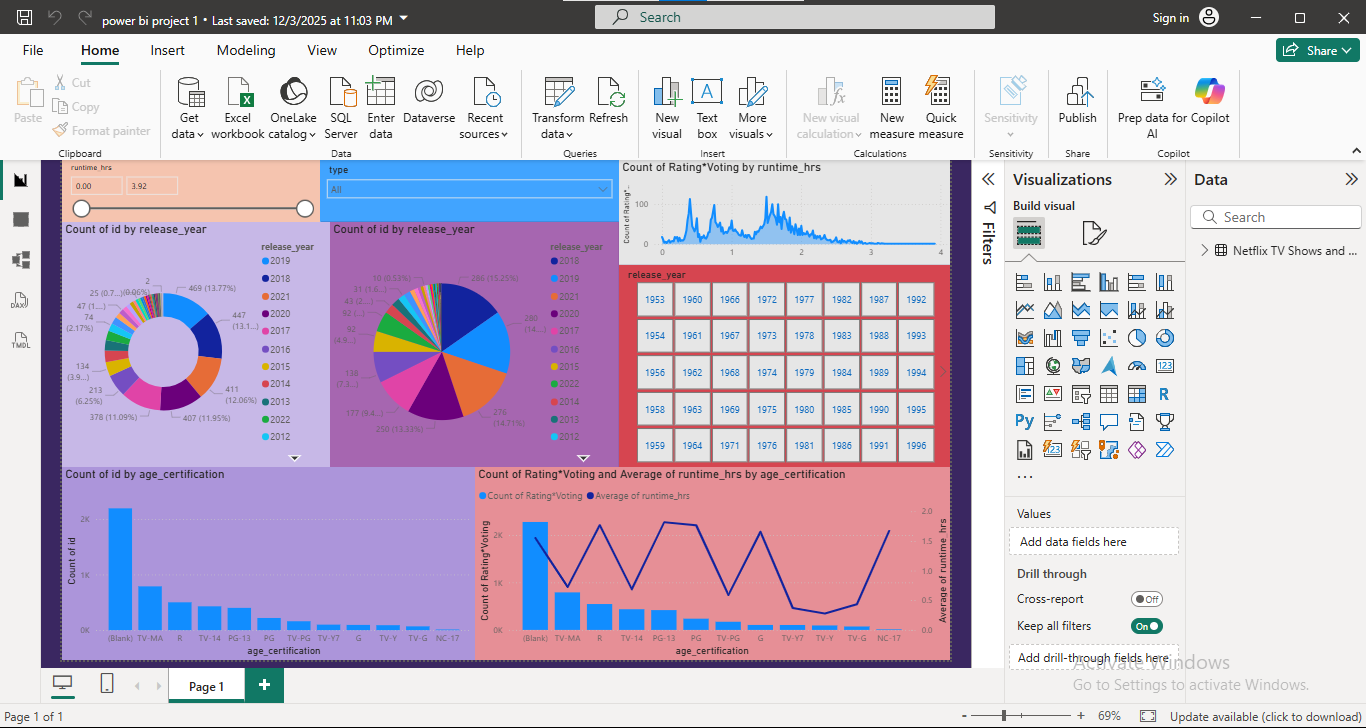

The page's visual inventory and layout, read from the dashboard file:
{"tool":"powerbi","page":{"name":"Page 1","canvas":[1280,720],"ordinal":0},"visuals":[{"type":"slicer","fields":{"Values":["Netflix TV Shows and Movies.runtime_hrs"]},"box":[0,0,371.5,89.3],"z":0},{"type":"slicer","fields":{"Values":["Netflix TV Shows and Movies.release_year"]},"box":[802.1,151.2,478.1,290.9],"z":1},{"type":"slicer","fields":{"Values":["Netflix TV Shows and Movies.type"]},"box":[371.5,0,430.6,89.3],"z":2},{"type":"donutChart","fields":{"Category":["Netflix TV Shows and Movies.release_year"],"Y":["CountNonNull(Netflix TV Shows and Movies.id)"]},"box":[0,89.3,385.9,352.8],"z":3},{"type":"pieChart","fields":{"Y":["CountNonNull(Netflix TV Shows and Movies.id)"],"Category":["Netflix TV Shows and Movies.release_year"]},"box":[385.9,89.3,416.2,352.8],"z":4},{"type":"areaChart","fields":{"Category":["Netflix TV Shows and Movies.runtime_hrs"],"Y":["CountNonNull(Netflix TV Shows and Movies.Rating*Voting)"]},"box":[802.1,0,478.1,151.2],"z":5},{"type":"columnChart","fields":{"Category":["Netflix TV Shows and Movies.age_certification"],"Y":["CountNonNull(Netflix TV Shows and Movies.id)"]},"box":[0,442.1,594.7,277.9],"z":6},{"type":"lineClusteredColumnComboChart","fields":{"Category":["Netflix TV Shows and Movies.age_certification"],"Y":["CountNonNull(Netflix TV Shows and Movies.Rating*Voting)"],"Y2":["Avg(Netflix TV Shows and Movies.runtime_hrs)"]},"box":[594.7,442.1,685.4,277.9],"z":7}]}

Visuals, with their boxes on the page's 1280x720 design canvas (x1, y1, x2, y2). These are canvas units, not pixel positions in the 1366x728 screenshot, which may show the page scaled, cropped or inside an application window:
slicer - Netflix TV Shows and Movies.runtime_hrs: Rect(0, 0, 372, 89)
slicer - Netflix TV Shows and Movies.release_year: Rect(802, 151, 1280, 442)
slicer - Netflix TV Shows and Movies.type: Rect(372, 0, 802, 89)
donutChart - Netflix TV Shows and Movies.release_year x CountNonNull(Netflix TV Shows and Movies.id): Rect(0, 89, 386, 442)
pieChart - CountNonNull(Netflix TV Shows and Movies.id) x Netflix TV Shows and Movies.release_year: Rect(386, 89, 802, 442)
areaChart - Netflix TV Shows and Movies.runtime_hrs x CountNonNull(Netflix TV Shows and Movies.Rating*Voting): Rect(802, 0, 1280, 151)
columnChart - Netflix TV Shows and Movies.age_certification x CountNonNull(Netflix TV Shows and Movies.id): Rect(0, 442, 595, 720)
lineClusteredColumnComboChart - Netflix TV Shows and Movies.age_certification x CountNonNull(Netflix TV Shows and Movies.Rating*Voting): Rect(595, 442, 1280, 720)
